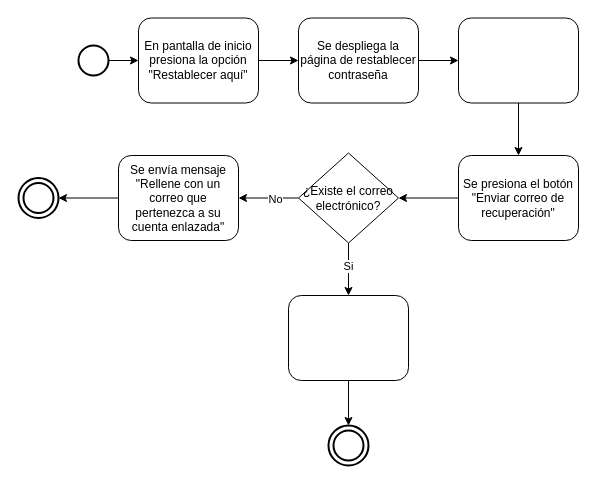
Some shapes in this 596 by 483 pixel diagram are drawn without their labels. Each missing label, with the centre of its shape:
"El correo se ha enviado correctamente" belongs at pixel 348 337.
"Se llena el campo con el correo electrónico enlazado a la cuenta" belongs at pixel 518 60.
